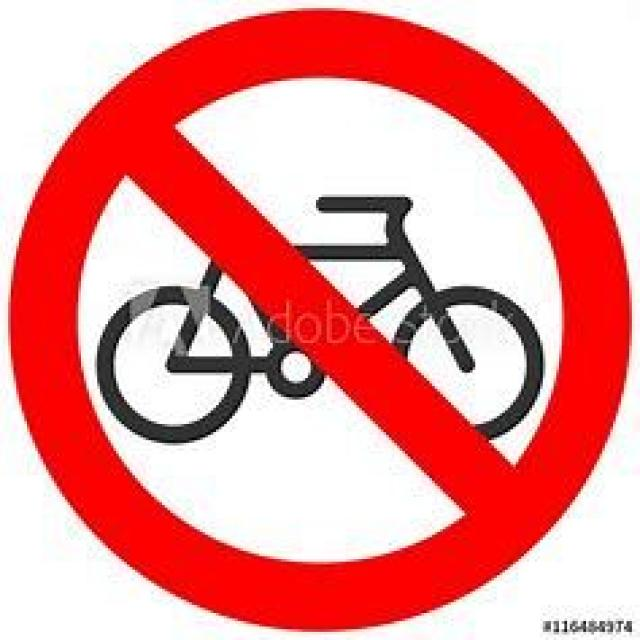cycle_prohibited: (8, 6, 629, 626)
